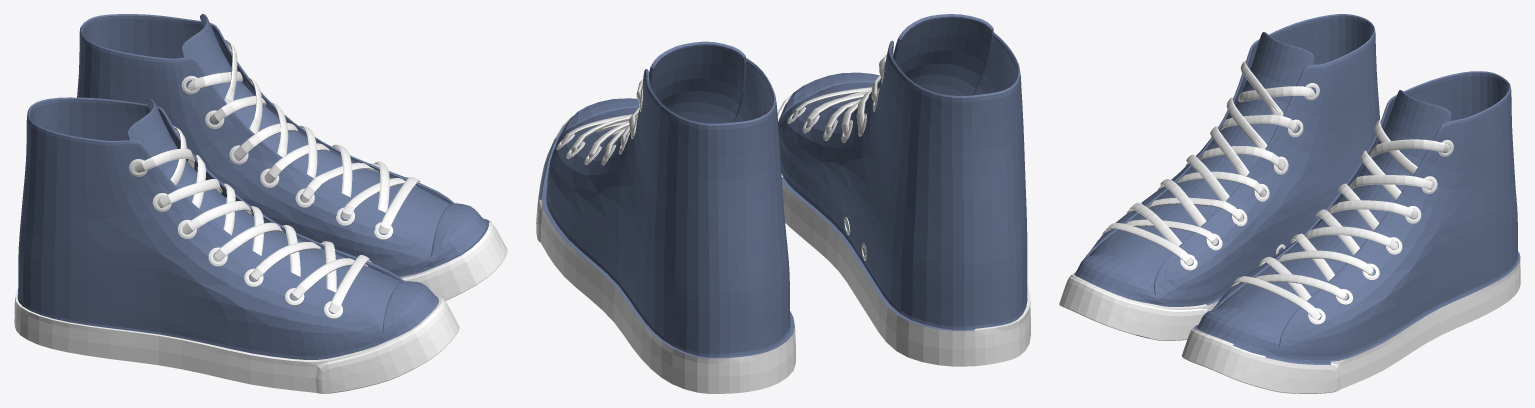
File: Sneakers.gltf
3 renders of one model, left to right at view 1: azimuth 30°, elevation 25°; view 2: azimuth 150°, elevation 25°; view 3: azimuth 270°, elevation 25°, orthographic. The views are drawn at different scales.
Parts seen in each view (by area): view 1: node-0; view 2: node-0; view 3: node-0.
Boxes of the visible parts, x1,y1,x2,y2 form: node-0: (14, 14, 507, 393); node-0: (536, 14, 1030, 393); node-0: (1059, 14, 1520, 393).
Size of the model in its own units: 308 by 160 by 308.
